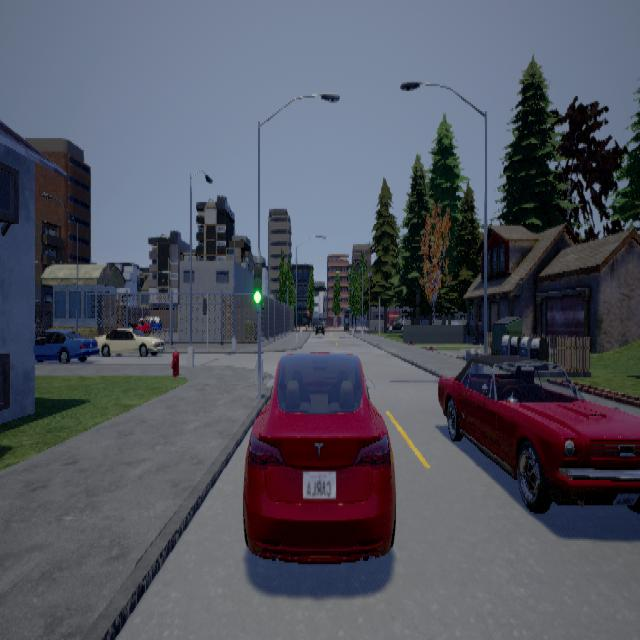green_light: (255, 252, 263, 312)
vehicle: (244, 350, 397, 562), (439, 354, 640, 512), (94, 315, 167, 357), (36, 323, 97, 369)
